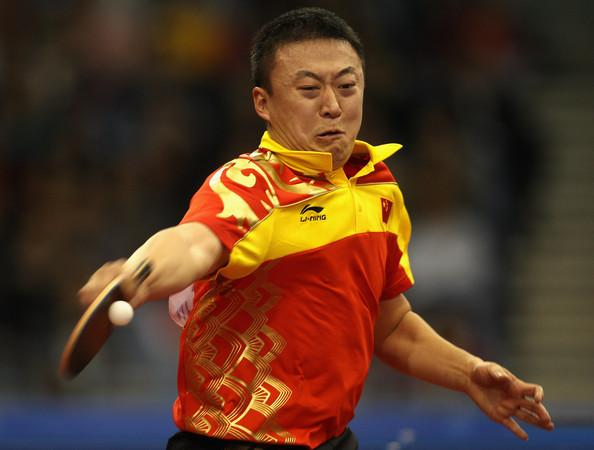ball_pingpong: (108, 299, 135, 328)
